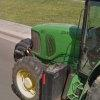Tractor: (12, 15, 100, 100)
